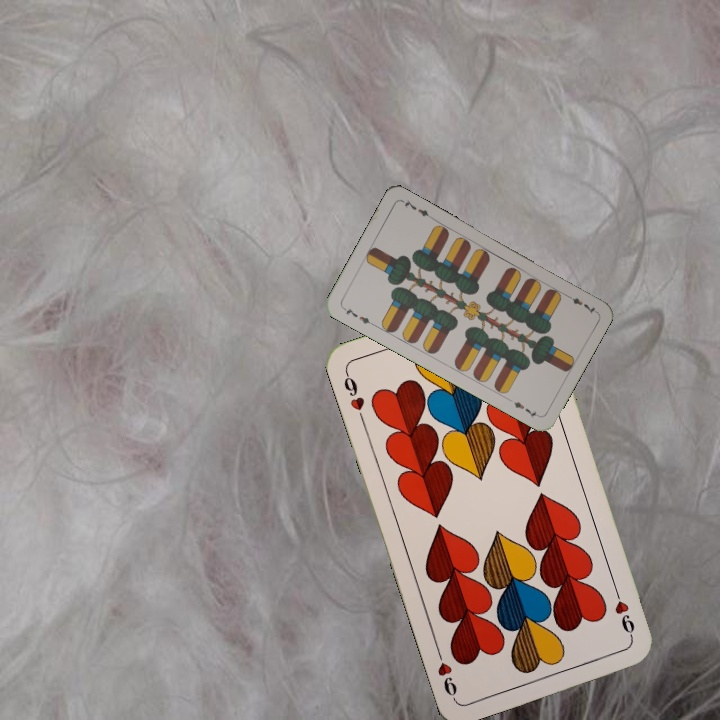E7: (561, 290, 598, 317), (338, 303, 376, 328)
H9: (339, 367, 368, 425), (610, 584, 637, 642)
